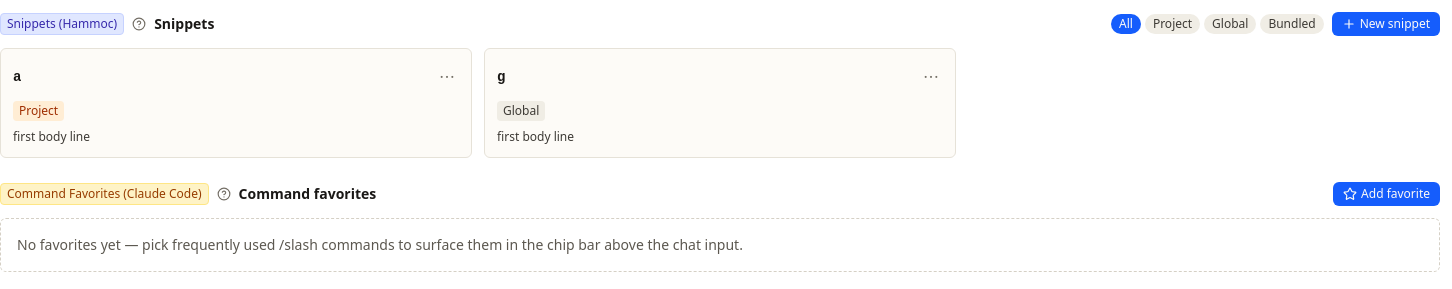
Test case: SnippetPanel › narrows the card grid when a scope filter is selected
The image size is (1452, 289).
Expected: the element with test id "snippet-card-project-a" is shown, left=0, top=48, right=472, bottom=158
What coordinates should you click on to do the following:
click the tab with test id "snippet-filter-user"
I would click on:
 (1230, 24)
Its box is left=1204, top=14, right=1256, bottom=34.
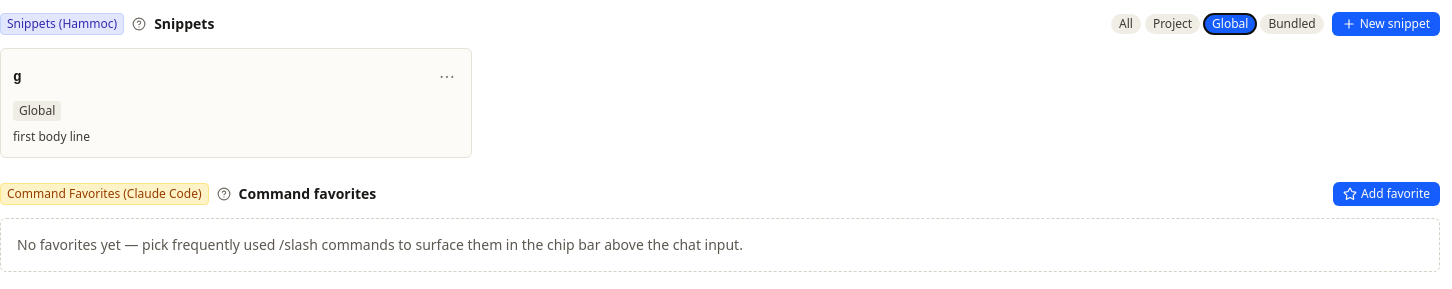
Expected: the element with test id "snippet-card-user-g" is shown, left=0, top=48, right=472, bottom=158
Expected: the element with test id "snippet-card-project-a" is gone
